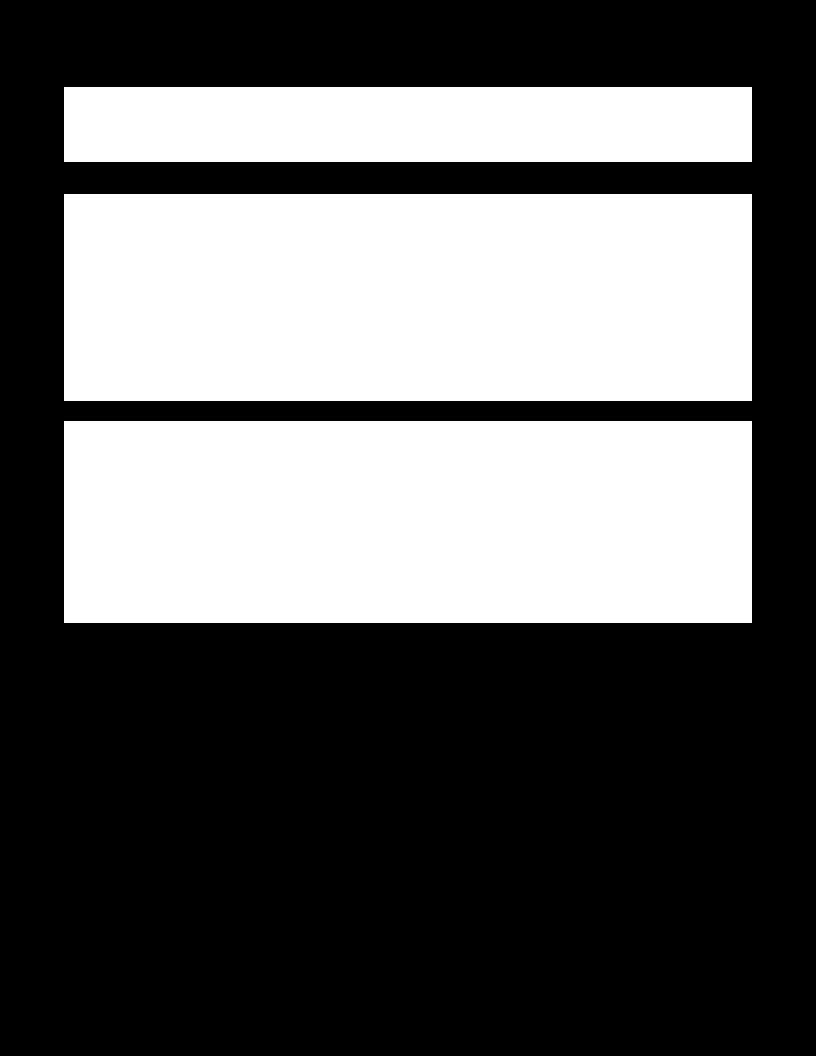table: (64, 194, 751, 400), (64, 421, 751, 622), (64, 87, 751, 161)
